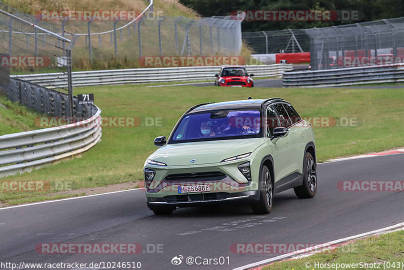other: (148, 99, 320, 216)
